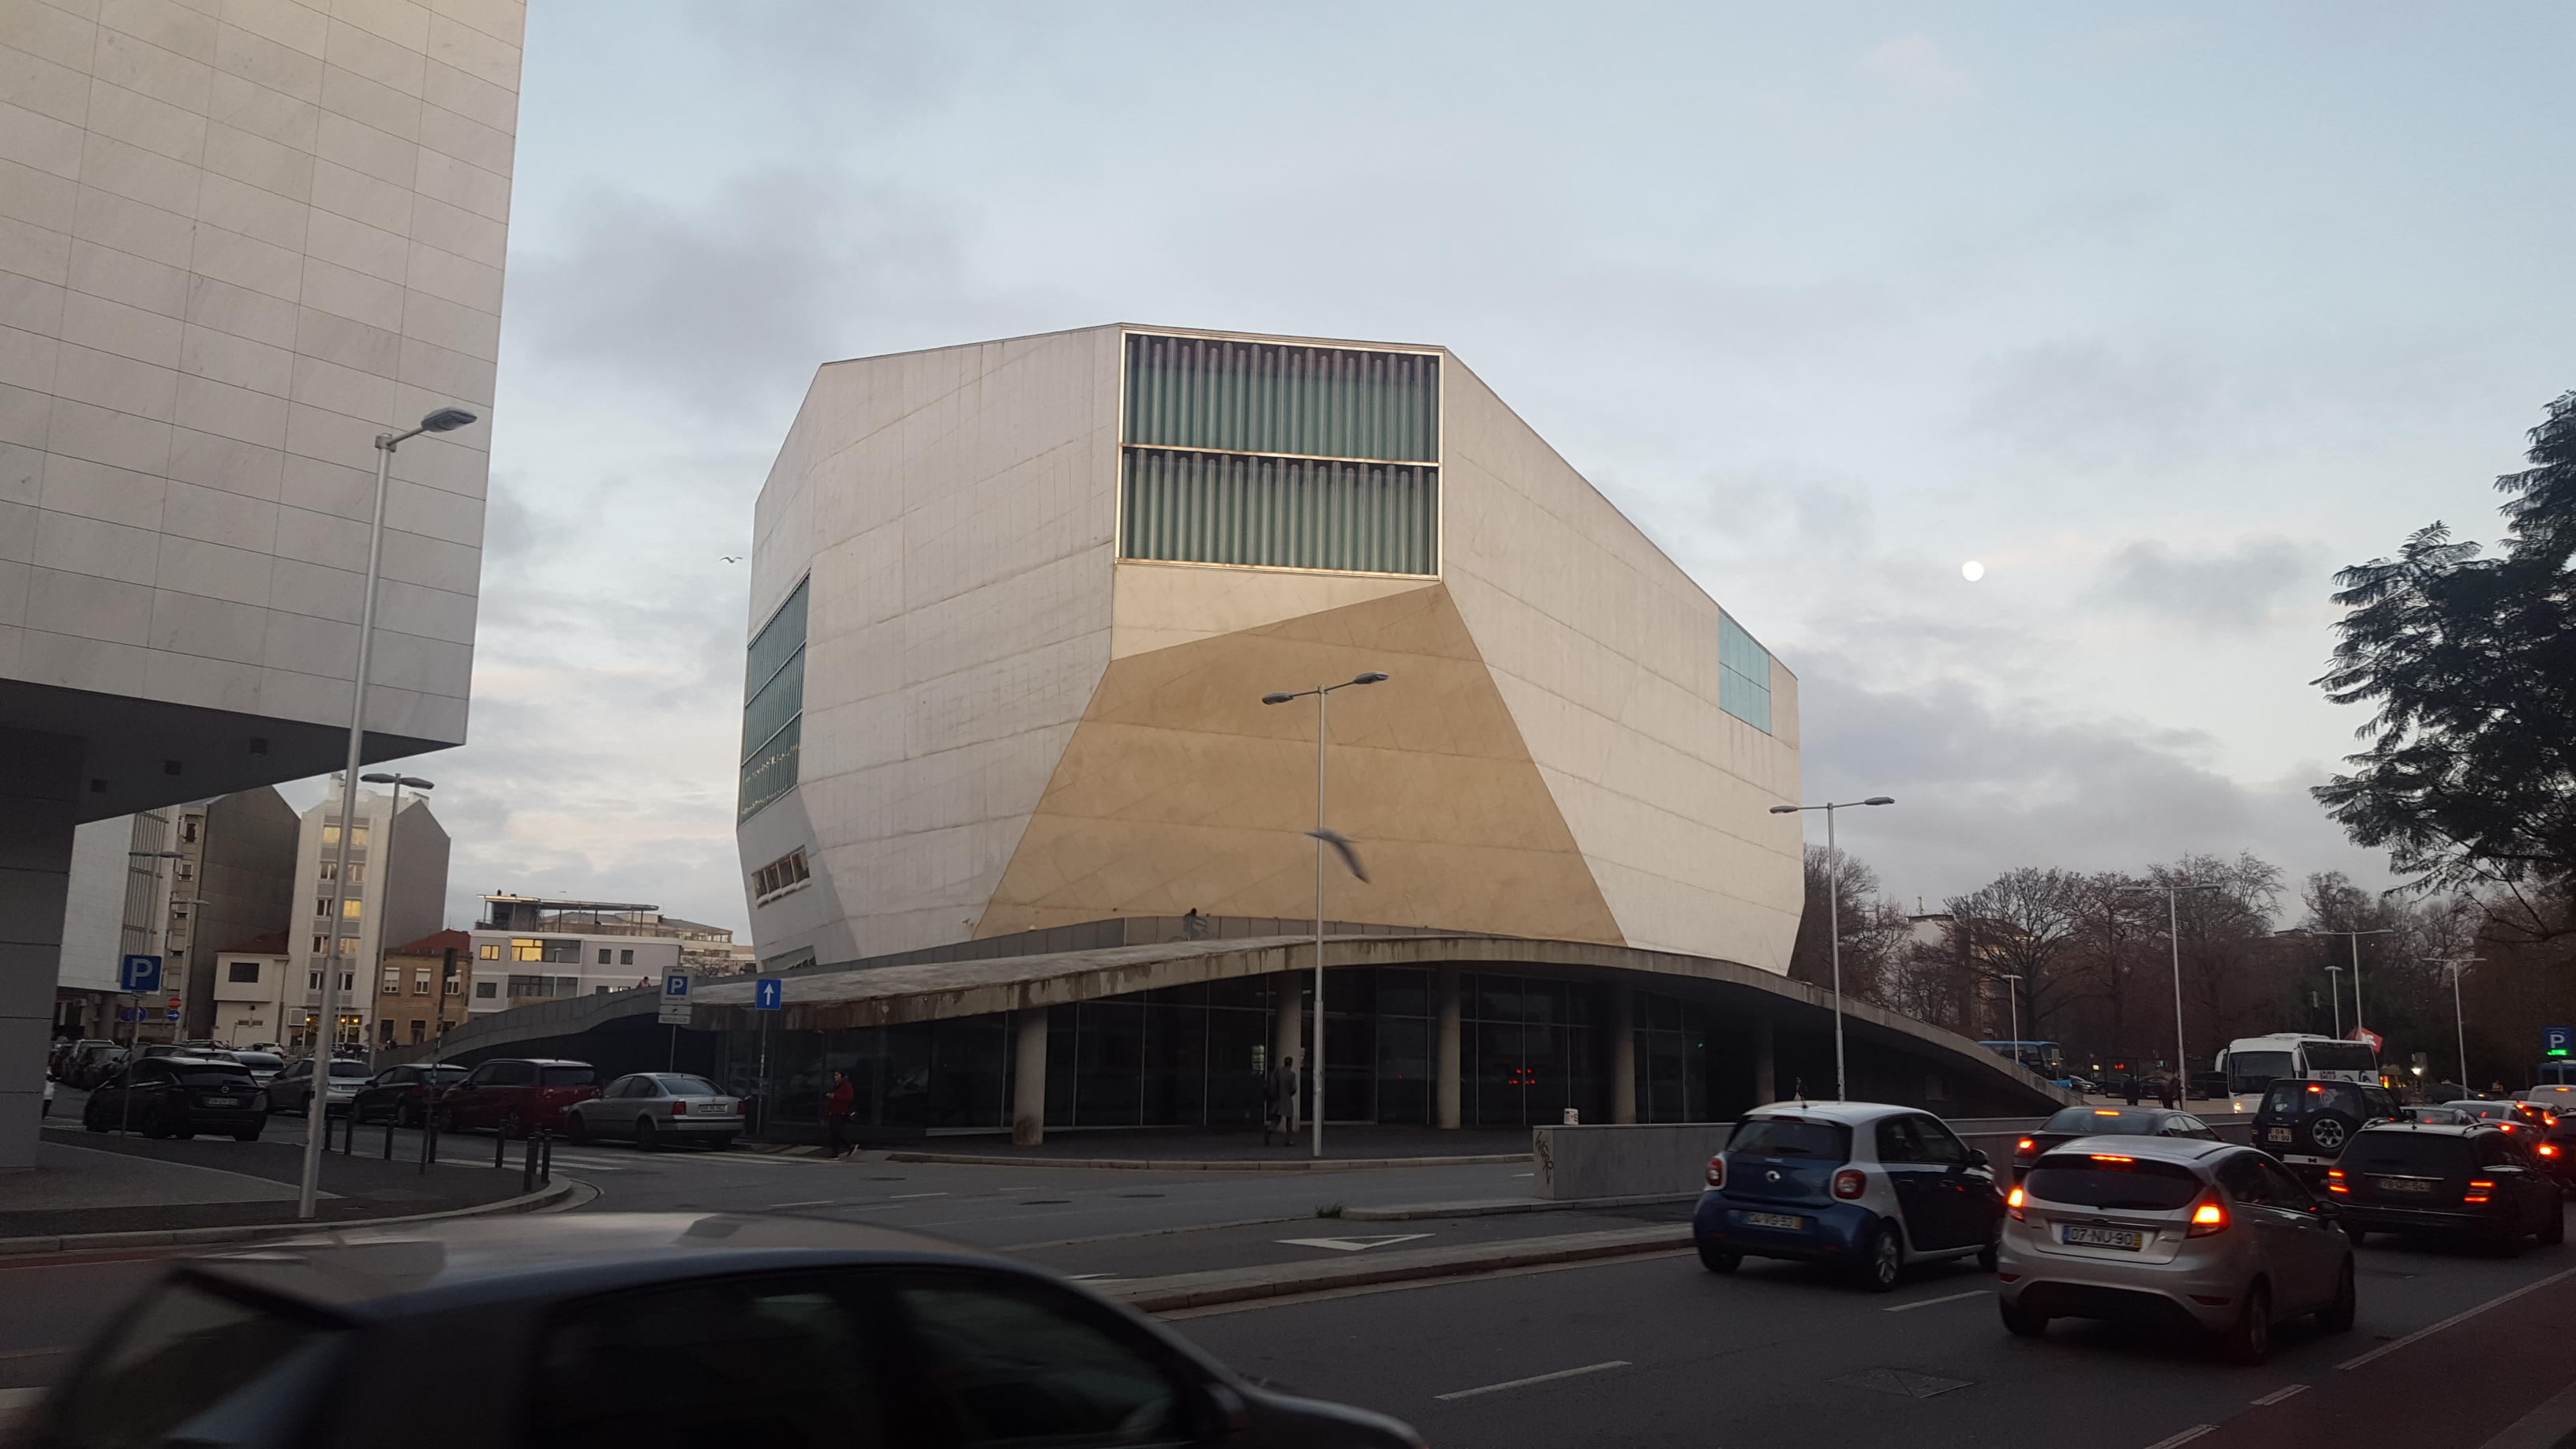musica: (731, 311, 1106, 679)
